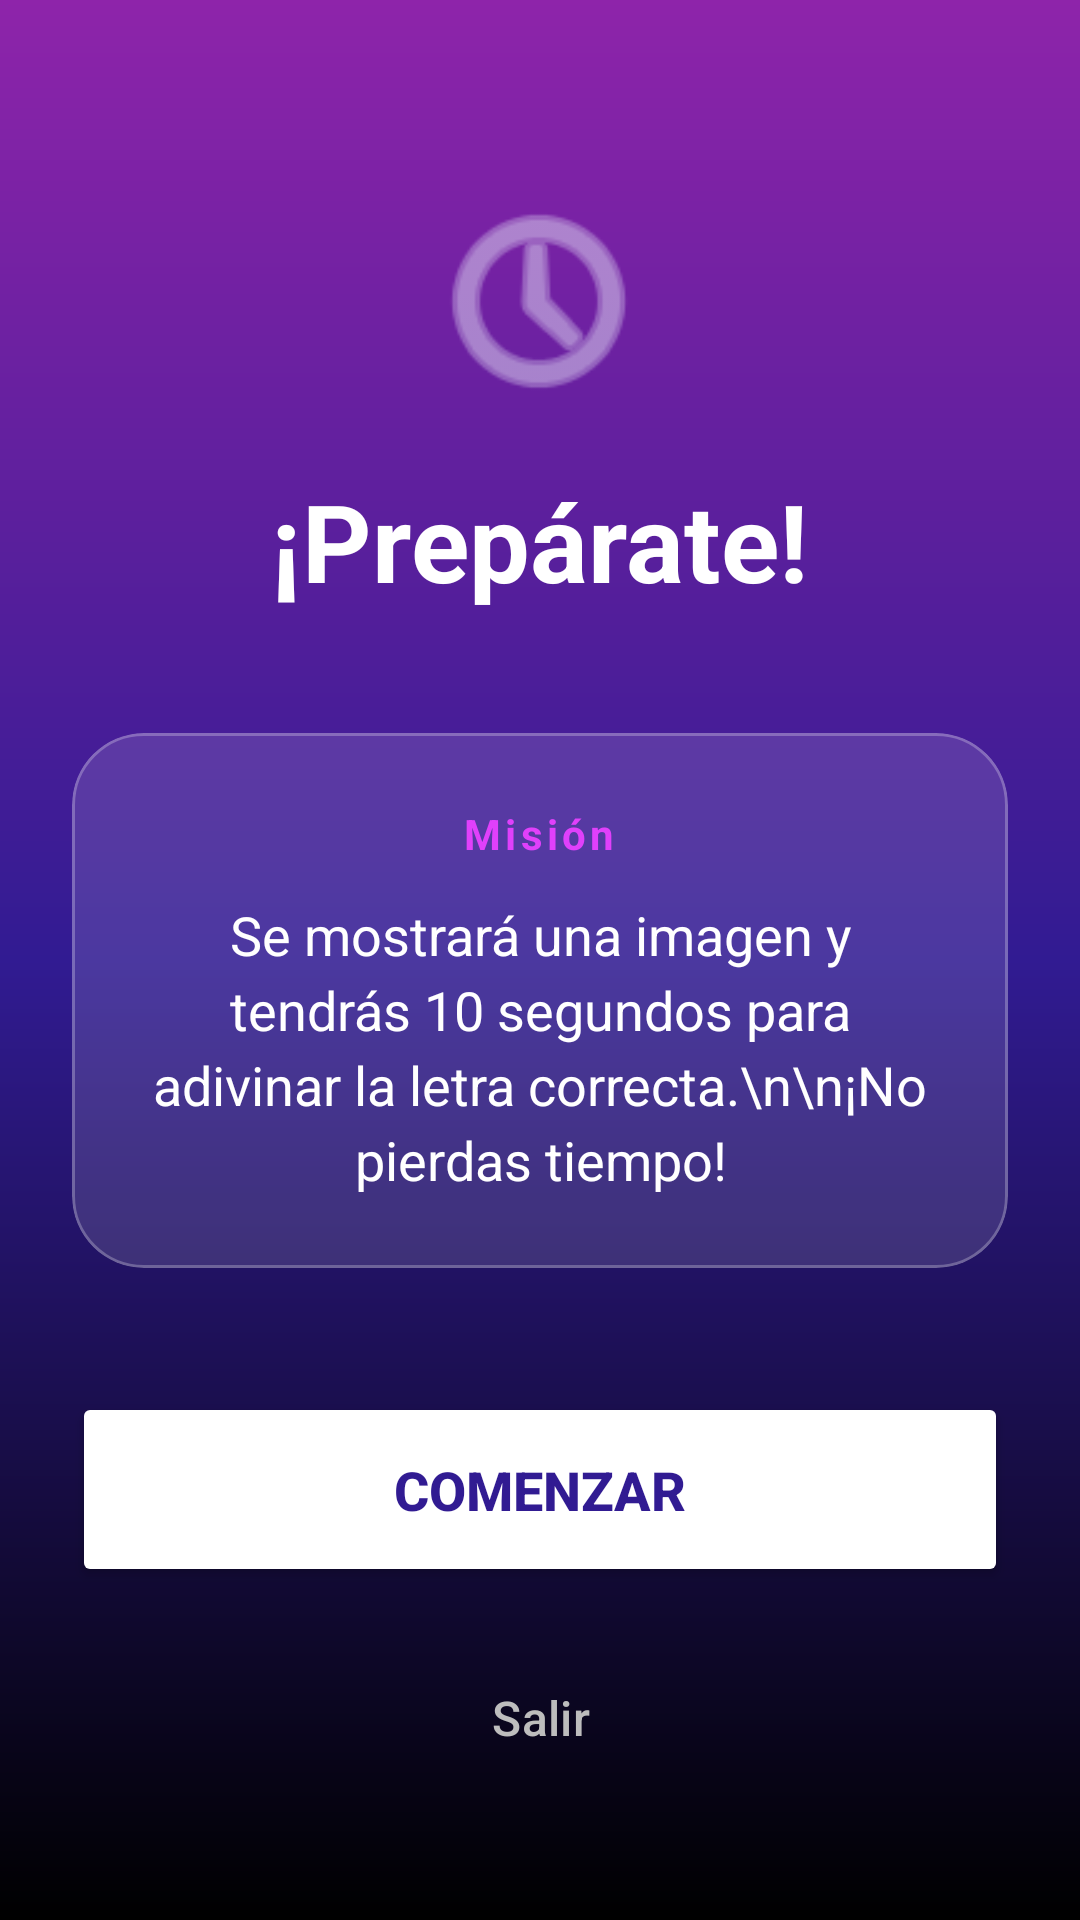

Icon bounding boxes for this 1080*1920 phone screenshot, format (x1, y1, x2, y2):
recent history: (452, 215, 625, 388)
